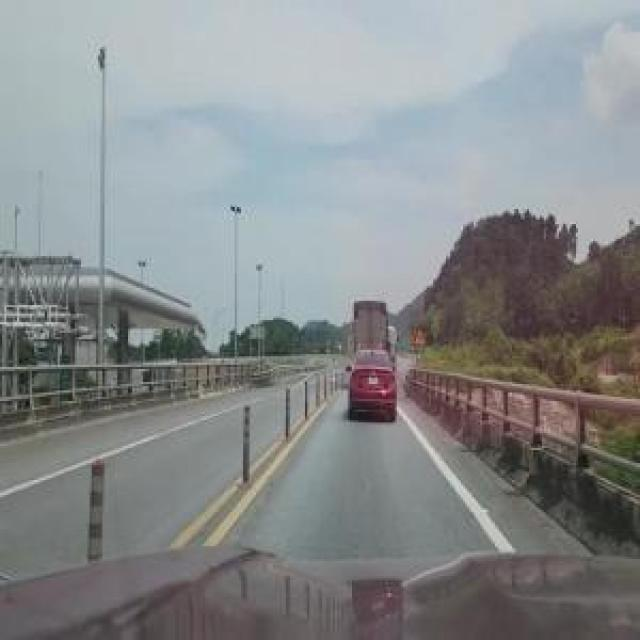clear-road: (0, 373, 584, 582)
